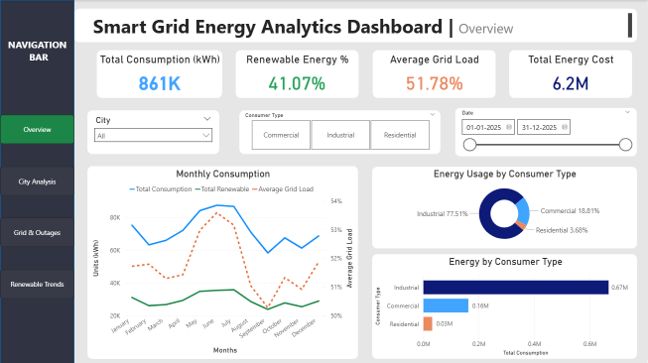

This screenshot's page, from the dashboard's own definition file:
{"tool":"powerbi","page":{"name":"Overview","canvas":[1280,720],"ordinal":0},"visuals":[{"type":"shape","box":[0,0,147.1,720.6],"z":0},{"type":"textbox","box":[147.7,17.2,1112.6,66.5],"z":1000},{"type":"pageNavigator","box":[0,226.9,147.1,364.1],"z":2000},{"type":"card","title":"Total Consumption (kWh)","fields":{"Values":["Measures_.Total Consumption"]},"box":[191,99.9,248.1,94.8],"z":3000},{"type":"card","title":"Renewable Energy %","fields":{"Values":["Measures_.Renewable %"]},"box":[466.5,99.9,243.1,94.8],"z":4000},{"type":"card","title":"Average Grid Load","fields":{"Values":["Measures_.Average Grid Load"]},"box":[737.1,99.9,243.1,94.8],"z":5000},{"type":"card","title":"Total Energy Cost","fields":{"Values":["Sum(smart_grid_energy_dataset.Energy Cost)"]},"box":[1007.6,99.9,243.1,94.8],"z":6000},{"type":"lineChart","title":"Monthly Consumption","fields":{"Category":["smart_grid_energy_dataset.Date.Variation.Date Hierarchy.Month"],"Y":["Measures_.Total Consumption","Measures_.Total Renewable"],"Y2":["Measures_.Average Grid Load"]},"box":[173,328.8,535,381.6],"z":7000},{"type":"pieChart","title":"Energy Usage by Consumer Type","fields":{"Y":["Measures_.Total Consumption"],"Category":["smart_grid_energy_dataset.Consumer Type"]},"box":[736.2,329.6,523.9,162],"z":8000},{"type":"clusteredBarChart","title":"Energy by Consumer Type","fields":{"Category":["smart_grid_energy_dataset.Consumer Type"],"Y":["Measures_.Total Consumption"]},"box":[736.2,503.1,523.9,207.4],"z":9000},{"type":"slicer","fields":{"Values":["smart_grid_energy_dataset.City"]},"box":[173.5,218.6,260.9,86.2],"z":10000},{"type":"slicer","fields":{"Values":["smart_grid_energy_dataset.Consumer Type"]},"box":[473.8,218.6,397.5,86.2],"z":11000},{"type":"slicer","fields":{"Values":["smart_grid_energy_dataset.Date"]},"box":[900.9,213.7,359.4,96],"z":12000},{"type":"textbox","box":[0,70.2,147.7,76.3],"z":13000}]}

Visuals, with their boxes in screenshot pixels (x1, y1, x2, y2), scaled from the page's 1280x720 canvas onto the 648x363 screenshot:
shape: (0,0,74,362)
textbox: (75,9,638,42)
pageNavigator: (0,114,74,298)
"Total Consumption (kWh)" card: (97,50,222,98)
"Renewable Energy %" card: (236,50,359,98)
"Average Grid Load" card: (373,50,496,98)
"Total Energy Cost" card: (510,50,633,98)
"Monthly Consumption" lineChart: (88,166,358,358)
"Energy Usage by Consumer Type" pieChart: (373,166,638,248)
"Energy by Consumer Type" clusteredBarChart: (373,254,638,358)
slicer - smart_grid_energy_dataset.City: (88,110,220,154)
slicer - smart_grid_energy_dataset.Consumer Type: (240,110,441,154)
slicer - smart_grid_energy_dataset.Date: (456,108,638,156)
textbox: (0,35,75,74)
